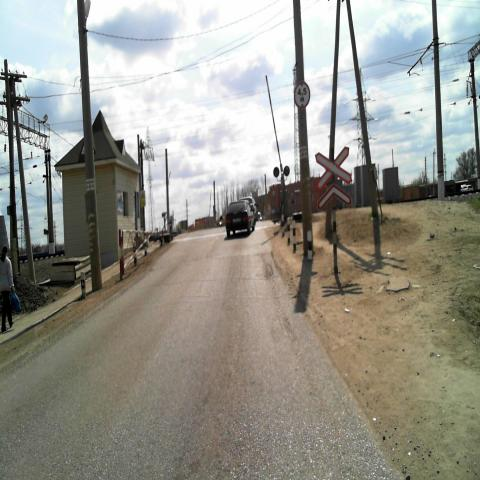3_13: (294, 80, 310, 109)
